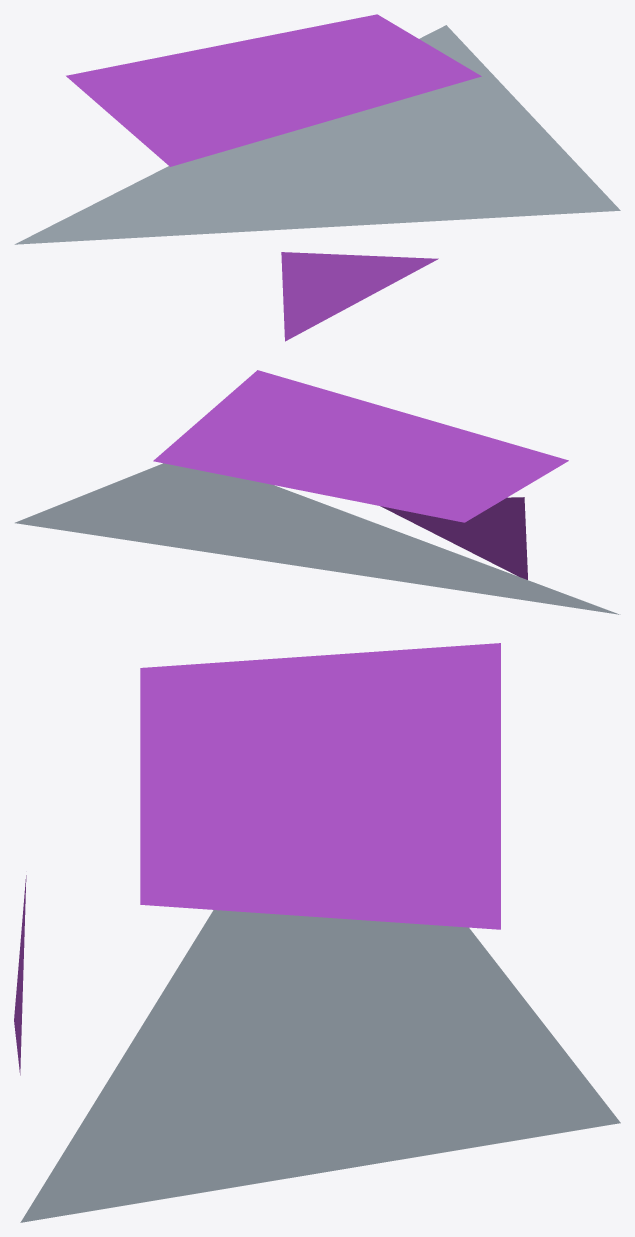
The model's file is CH_PauseProjector_LOD2.glb.
3 renders of one model, top to bottom at view 1: azimuth 30°, elevation 25°; view 2: azimuth 150°, elevation 25°; view 3: azimuth 270°, elevation 25°, orthographic. The views are drawn at different scales.
Visible parts, largest first — view 1: EntranceGate; view 2: EntranceGate; view 3: EntranceGate.
Part boxes in pixels (x1,y1,x2,y2): EntranceGate: (14,14,620,341); EntranceGate: (15,370,620,614); EntranceGate: (14,643,620,1222).
Bounding box in the file's own units: 550 × 183 × 323.
